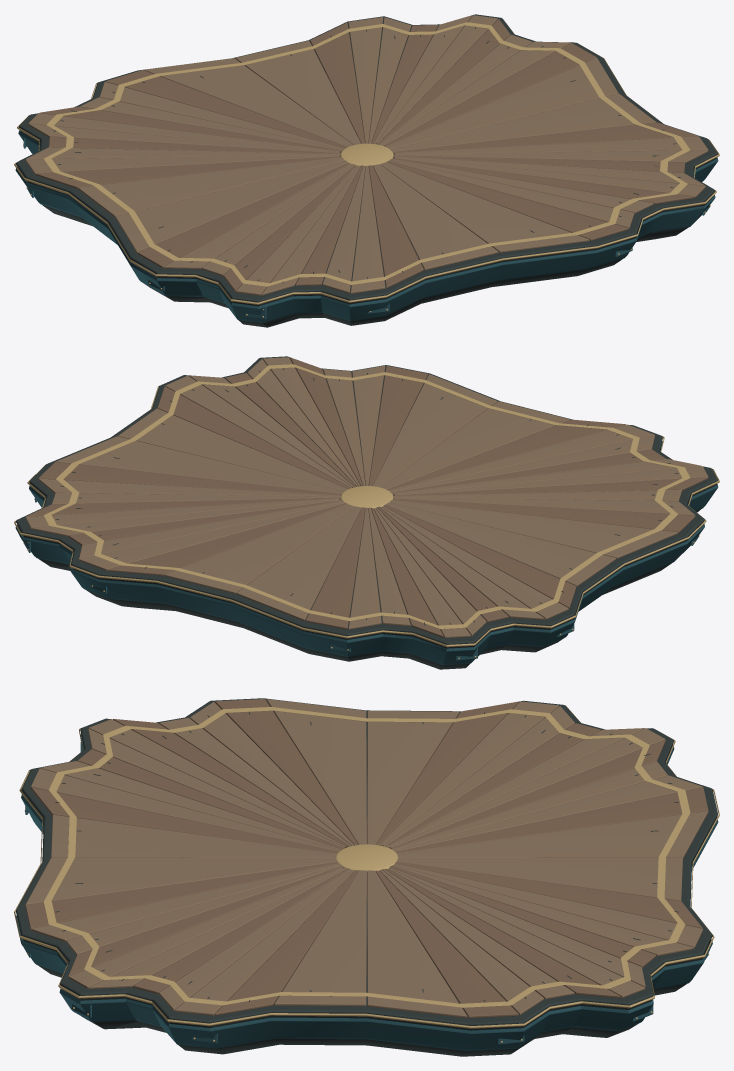
File: chapter_terrace_2_2_atelier.glb
The picture shows the model from 3 angles, top to bottom: view 1: azimuth 30°, elevation 25°; view 2: azimuth 150°, elevation 25°; view 3: azimuth 270°, elevation 25°; orthographic projection. The views are drawn at different scales.
Visible parts, largest first — view 1: chapter_terrace_2_2_atelier__TaggedPainted_chapter_terrace_2, chapter_terrace_2_2_atelier__Painted_chapter_terrace_2_2_ate (×2); view 2: chapter_terrace_2_2_atelier__TaggedPainted_chapter_terrace_2, chapter_terrace_2_2_atelier__Painted_chapter_terrace_2_2_ate (×2); view 3: chapter_terrace_2_2_atelier__TaggedPainted_chapter_terrace_2, chapter_terrace_2_2_atelier__Painted_chapter_terrace_2_2_ate (×2).
Boxes of the visible parts, x1,y1,x2,y2 form: chapter_terrace_2_2_atelier__TaggedPainted_chapter_terrace_2: (16,14,717,327); chapter_terrace_2_2_atelier__Painted_chapter_terrace_2_2_ate (×2): (14,18,719,323); chapter_terrace_2_2_atelier__TaggedPainted_chapter_terrace_2: (16,356,717,669); chapter_terrace_2_2_atelier__Painted_chapter_terrace_2_2_ate (×2): (14,358,719,665); chapter_terrace_2_2_atelier__TaggedPainted_chapter_terrace_2: (16,698,717,1056); chapter_terrace_2_2_atelier__Painted_chapter_terrace_2_2_ate (×2): (14,702,719,1050).
Size of the model in its own units: 22.07 by 2.63 by 20.07.
